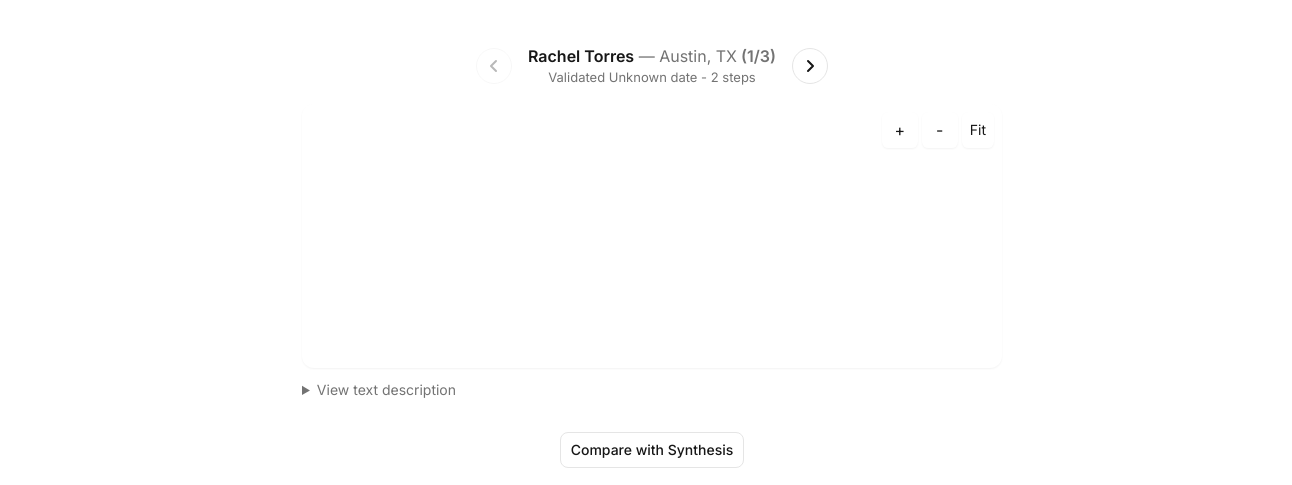
Test: ComparisonView › clicking "Back to Individual Review" returns to Mode 1
Click the button "Compare with Synthesis". click: [652, 450]
box: [560, 432, 744, 468]
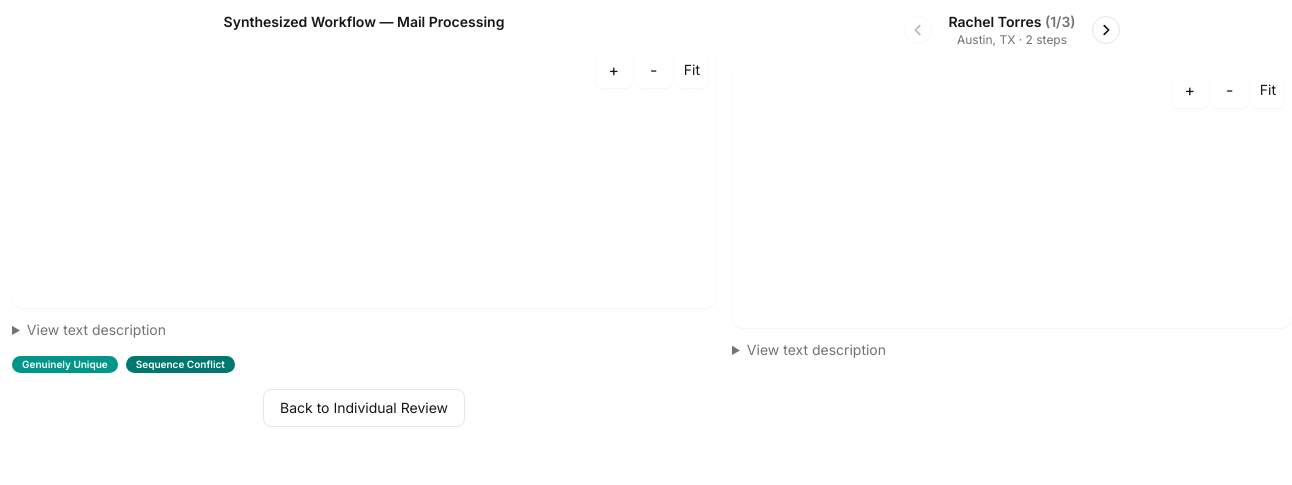
Click the button "Back to Individual Review". click: [364, 408]
box: [263, 388, 465, 426]
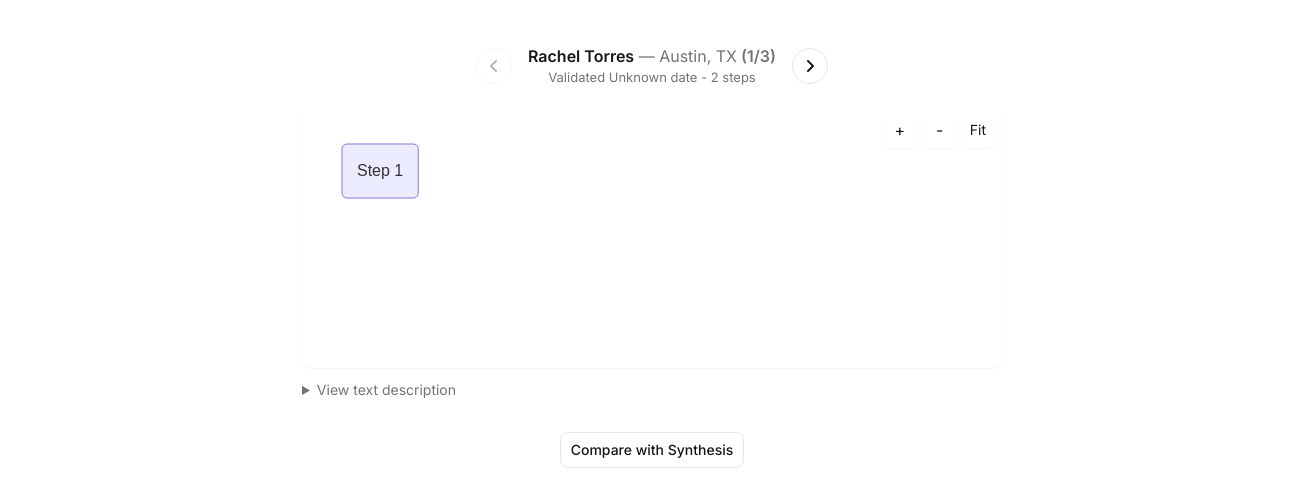
Now the button "Compare with Synthesis" is shown, box [560, 432, 744, 468]
